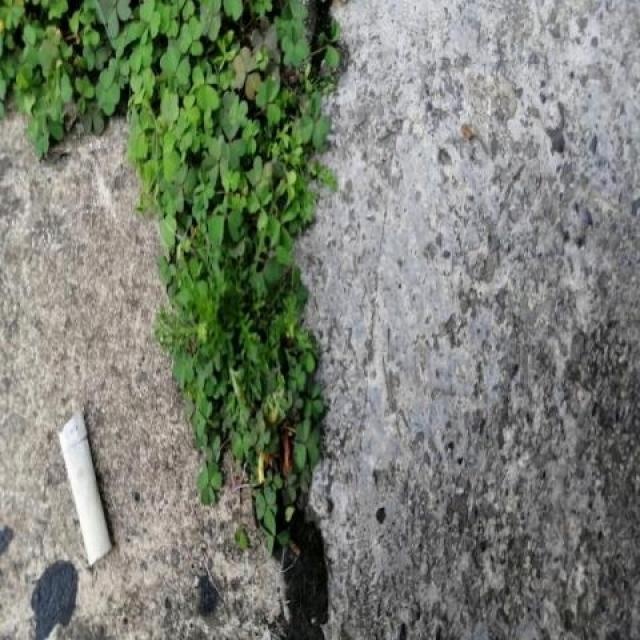non-organic waste: (56, 401, 115, 572)
